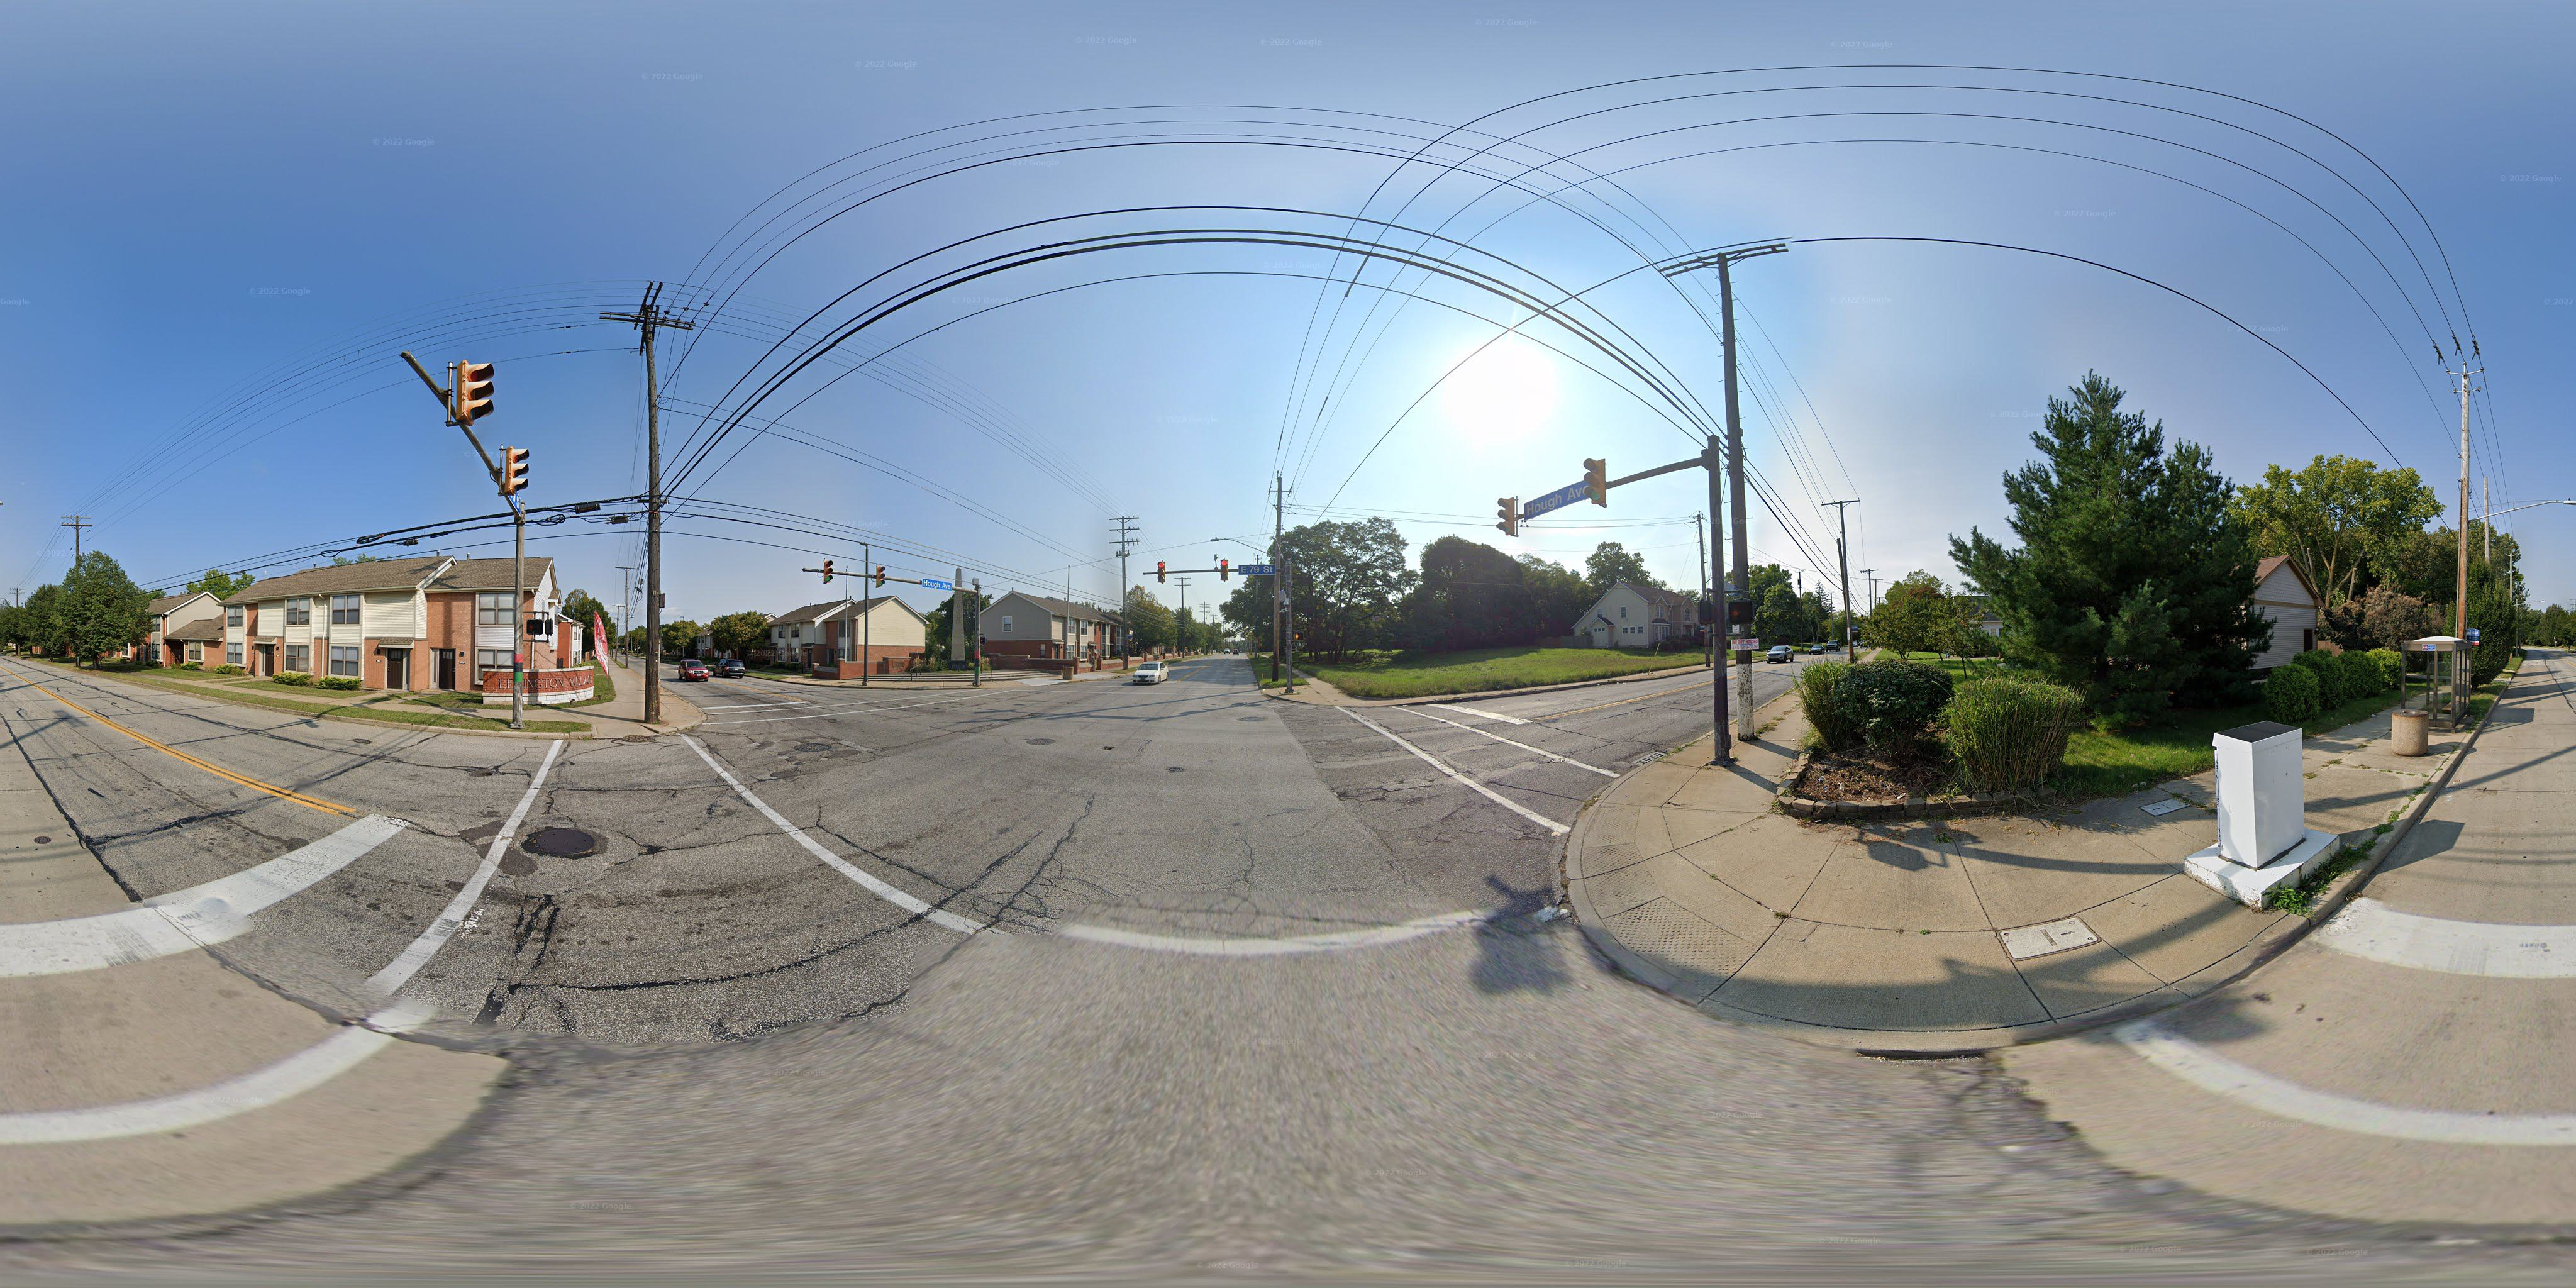Curb Ramp: (1529, 757, 1748, 1022), (1331, 695, 1393, 720), (682, 703, 715, 733), (984, 680, 1058, 690)
Irregular Ramp: (586, 715, 657, 749)
